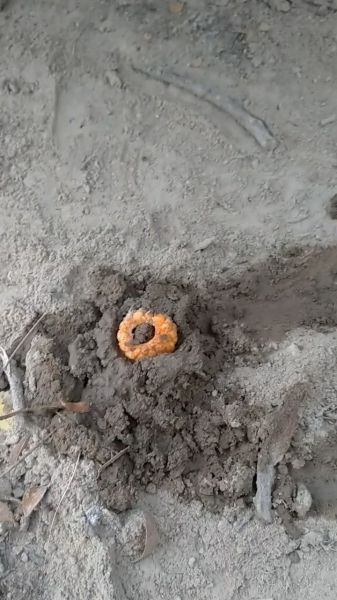eggs: (113, 307, 181, 365)
